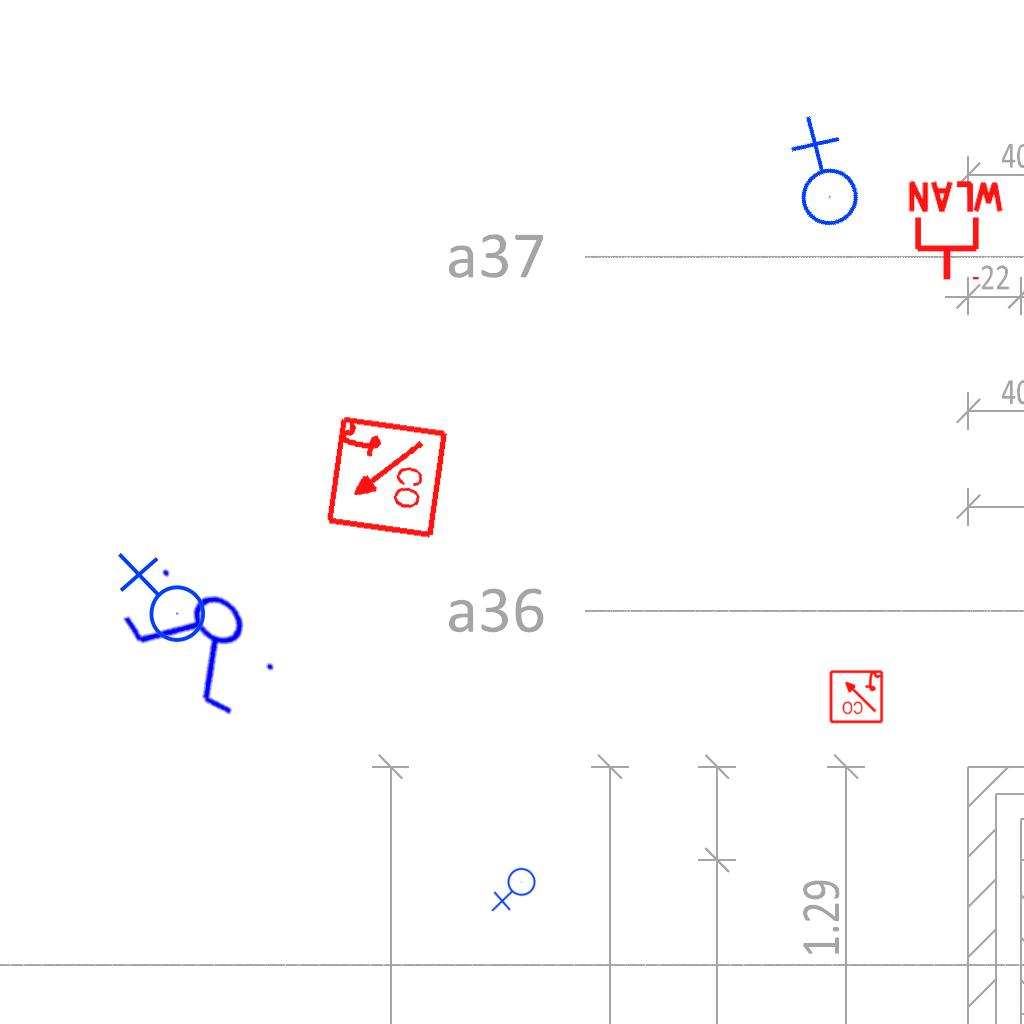Elektroanschluss_allgemein_230V_Geraeteanschlussdose_230V: (755, 111, 886, 245), (113, 552, 207, 651), (491, 867, 540, 914)
ROA_Rauchmelder_optisch_mit_Signalgeber_(Sockelsirene): (321, 413, 450, 542), (828, 668, 884, 724)
Serienschalter: (107, 548, 297, 732)
WLAN: (904, 179, 1008, 284)
